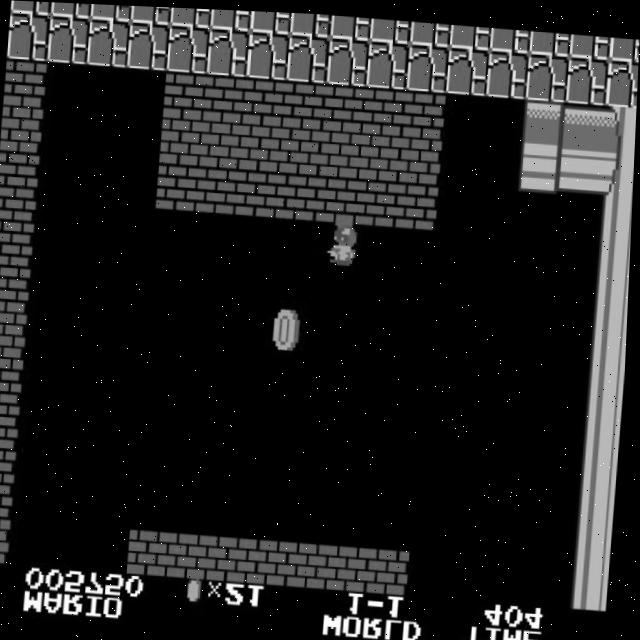1- brick_block: (239, 120, 284, 169), (322, 80, 367, 129), (330, 539, 375, 588), (359, 128, 404, 177), (370, 542, 415, 591), (399, 131, 444, 180), (276, 169, 321, 217), (279, 123, 324, 171), (316, 172, 361, 220), (319, 126, 364, 174), (362, 83, 407, 131), (402, 86, 447, 134), (3, 58, 47, 107), (131, 525, 175, 574), (160, 114, 204, 163), (163, 69, 207, 118), (171, 528, 215, 577), (200, 117, 244, 166), (211, 531, 255, 580), (251, 533, 295, 582), (291, 536, 335, 585), (156, 161, 201, 208), (196, 164, 241, 211), (236, 167, 281, 214), (0, 104, 44, 152), (203, 72, 247, 120), (243, 75, 287, 123), (283, 78, 327, 126), (356, 175, 400, 222), (396, 178, 440, 225), (0, 150, 41, 198), (0, 195, 38, 244), (0, 241, 35, 290), (0, 287, 31, 334), (0, 332, 27, 380), (0, 378, 25, 426), (0, 424, 21, 471), (0, 470, 19, 517), (0, 515, 15, 563)
11- little_mario: (321, 215, 367, 266)
14- pipe: (562, 97, 607, 145), (579, 420, 624, 468), (582, 374, 627, 422), (559, 142, 603, 191), (570, 557, 614, 605), (573, 512, 617, 559), (576, 466, 620, 513), (588, 283, 631, 331), (586, 329, 629, 376), (592, 237, 632, 285), (594, 192, 634, 239), (598, 146, 636, 193), (602, 100, 637, 148)
15- pipe_head: (522, 94, 567, 143), (519, 140, 564, 188)
17- undestructible_block: (525, 48, 570, 97), (46, 15, 91, 63), (405, 40, 450, 88), (445, 43, 490, 91), (485, 46, 530, 94), (565, 51, 610, 99), (6, 12, 50, 61), (126, 20, 170, 69), (166, 23, 210, 72), (326, 34, 370, 83), (366, 37, 410, 86), (86, 18, 130, 66), (206, 26, 250, 74), (246, 29, 290, 77), (286, 32, 330, 80), (604, 54, 639, 102), (488, 23, 531, 49), (409, 17, 451, 43), (449, 20, 491, 46), (289, 10, 332, 35), (329, 12, 372, 37), (528, 26, 571, 51), (568, 29, 611, 54), (369, 15, 411, 40), (209, 7, 252, 29), (249, 9, 292, 31), (169, 6, 212, 26), (89, 3, 132, 21), (129, 5, 172, 23), (608, 32, 640, 56), (50, 2, 92, 17), (10, 0, 51, 15)
2- coin: (267, 306, 311, 354)
